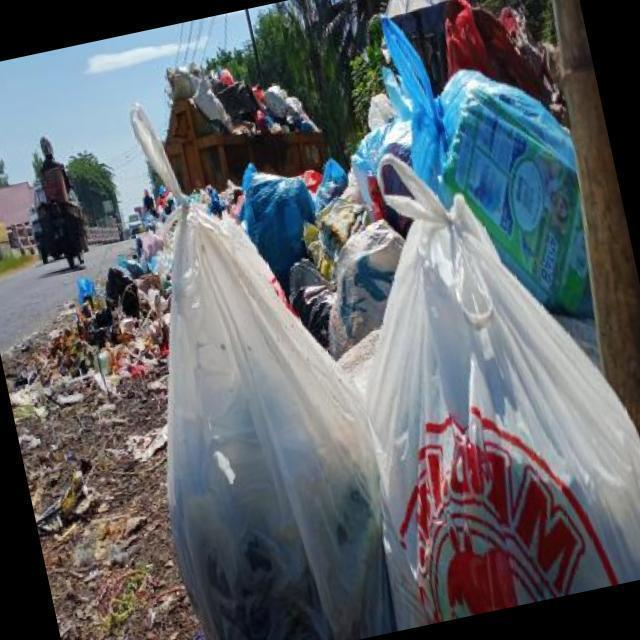Plastic_Bag: (77, 61, 413, 640), (298, 96, 640, 629)
